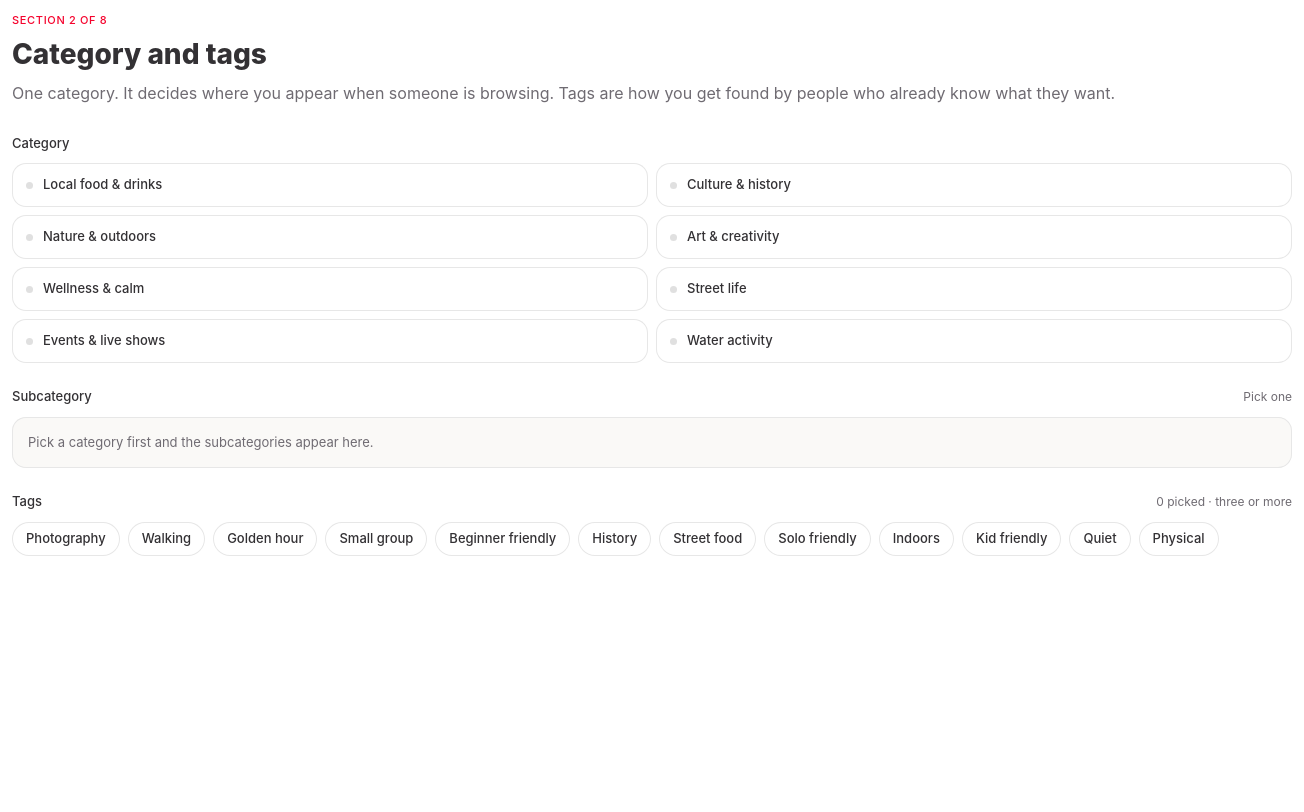
Test: category and tags › shows subcategories only after a category is picked
Expected: the text "Pick a category first and the subcategories appear here." is shown, [12,416,1292,468]
What coordinates should you click on to do the following:
click the button "Wellness & calm"
I would click on:
 (94, 288)
Its box is [12,267,648,311].
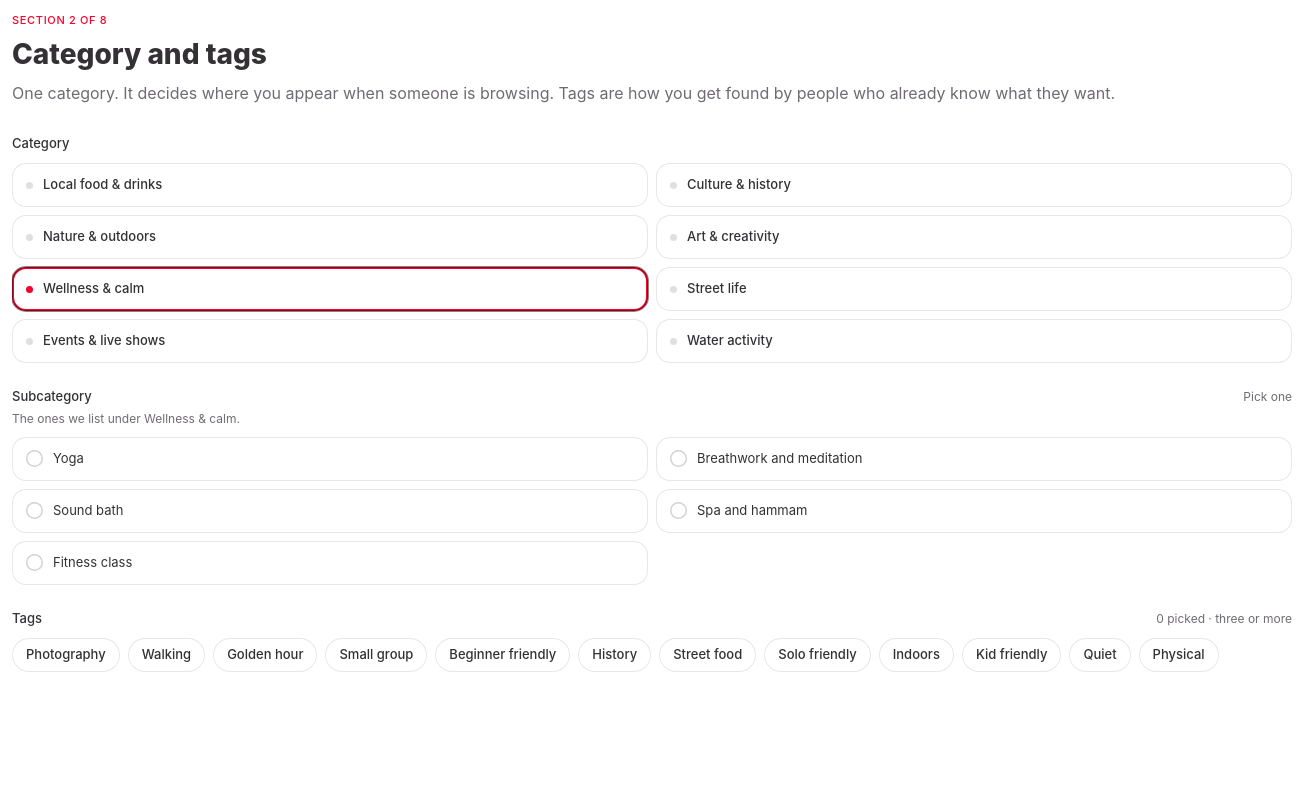
What coordinates should you click on to do the following:
click the button "Yoga"
I would click on:
 (68, 458)
Its box is [12,436,648,480].
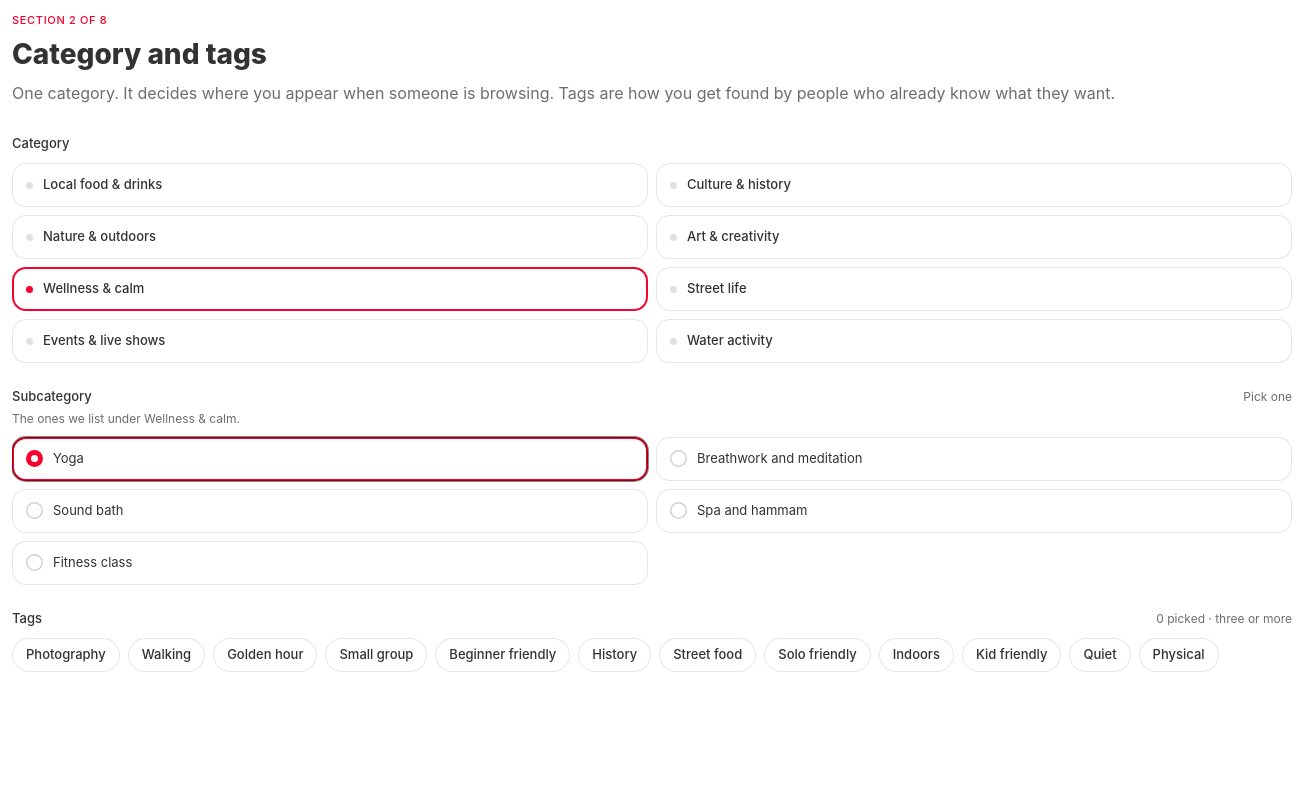
Expected: the button "Yoga" is pressed, [12,436,648,480]
What coordinates should you click on to do the following:
click the button "Walking"
I would click on:
 (166, 655)
Its box is [128,638,205,672].
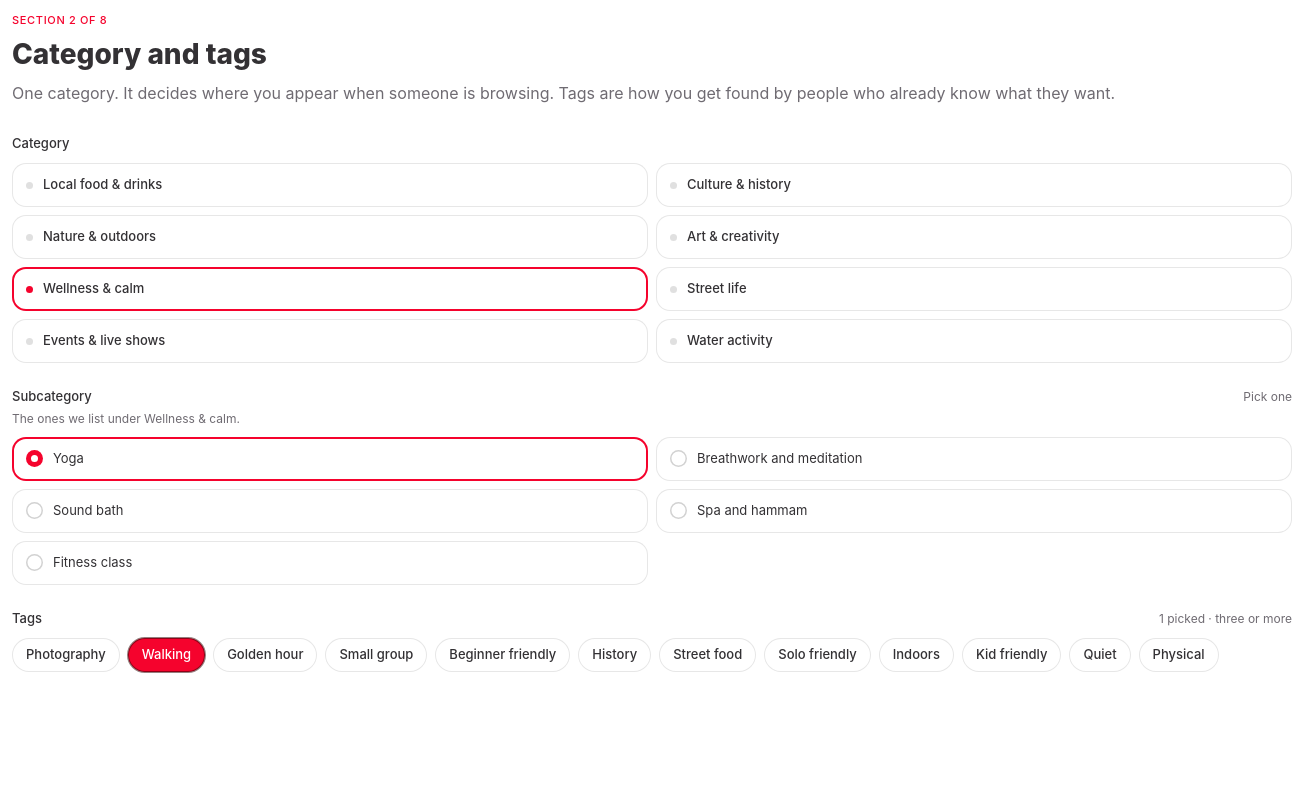
Expected: the text "1 picked · three or more" is shown, [1159,610,1292,626]
